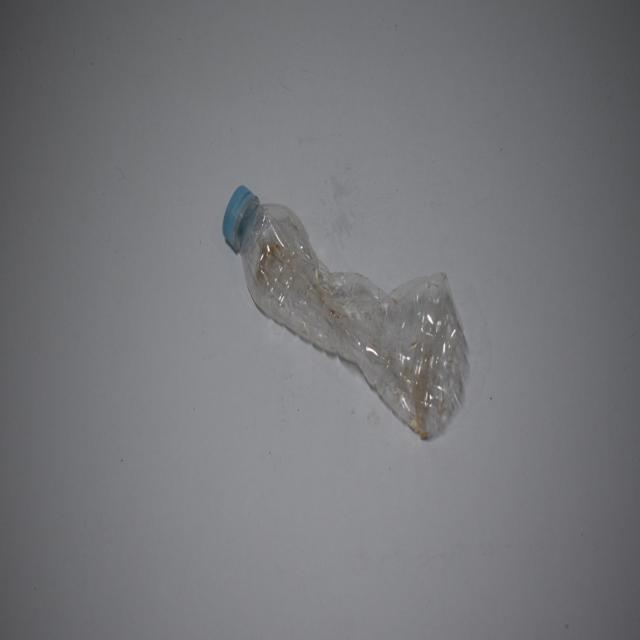empty: (240, 204, 467, 437)
